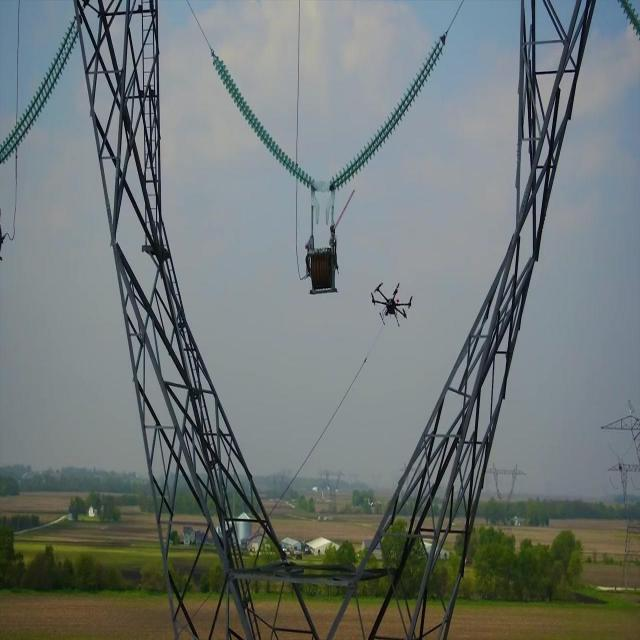UAV: (371, 283, 413, 327)
